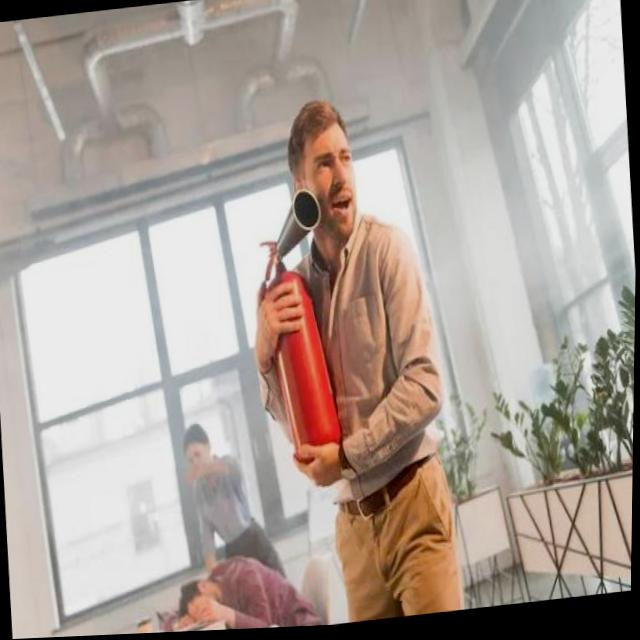FireExtinguisher: (249, 184, 353, 491)
